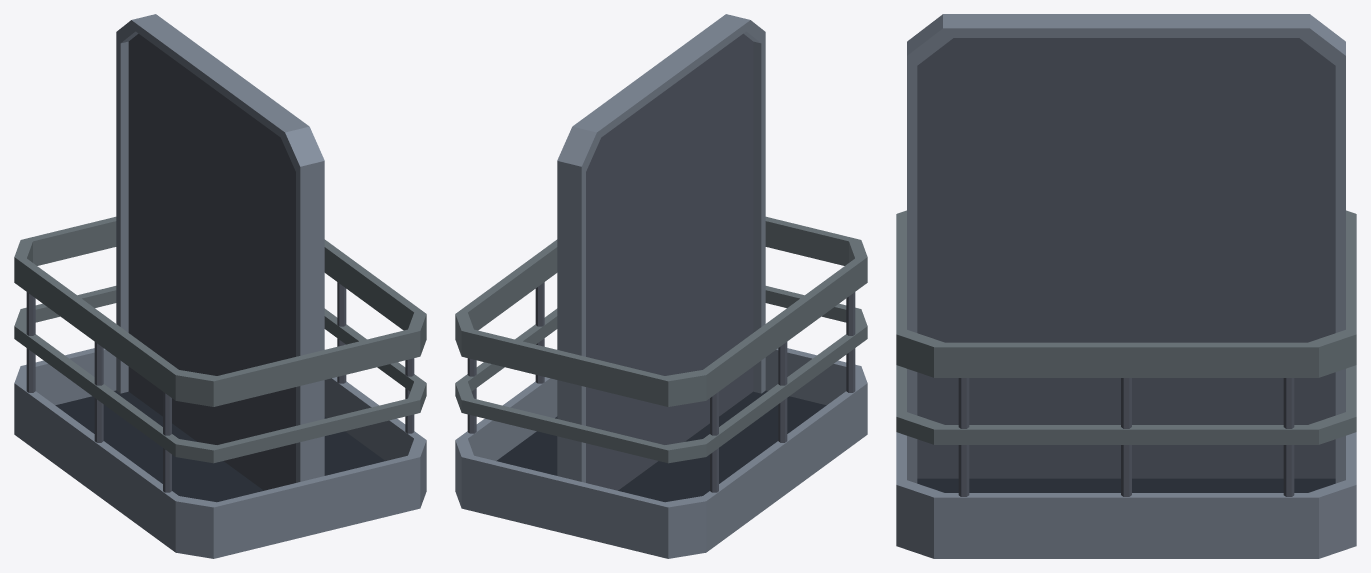
Rendered from g_o_GasBottle_Storage.fbx.
3 views of the same model, side by side, from view 1: azimuth 30°, elevation 25°; view 2: azimuth 150°, elevation 25°; view 3: azimuth 270°, elevation 25° (orthographic). The views are drawn at different scales.
Parts seen in each view (by area): view 1: g_o_GasBottle_Storage; view 2: g_o_GasBottle_Storage; view 3: g_o_GasBottle_Storage.
Boxes of the visible parts, box(x1,y1,x2,y2) form: g_o_GasBottle_Storage: box(14, 14, 426, 558); g_o_GasBottle_Storage: box(455, 14, 867, 558); g_o_GasBottle_Storage: box(896, 14, 1356, 558).
Bounding box in the file's own units: 0.6375 × 0.9464 × 0.85.
